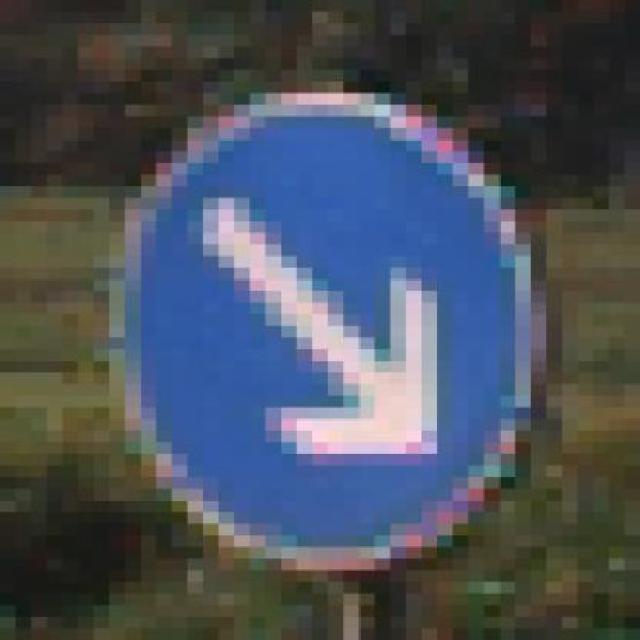Keep-Right: (78, 70, 547, 582)
